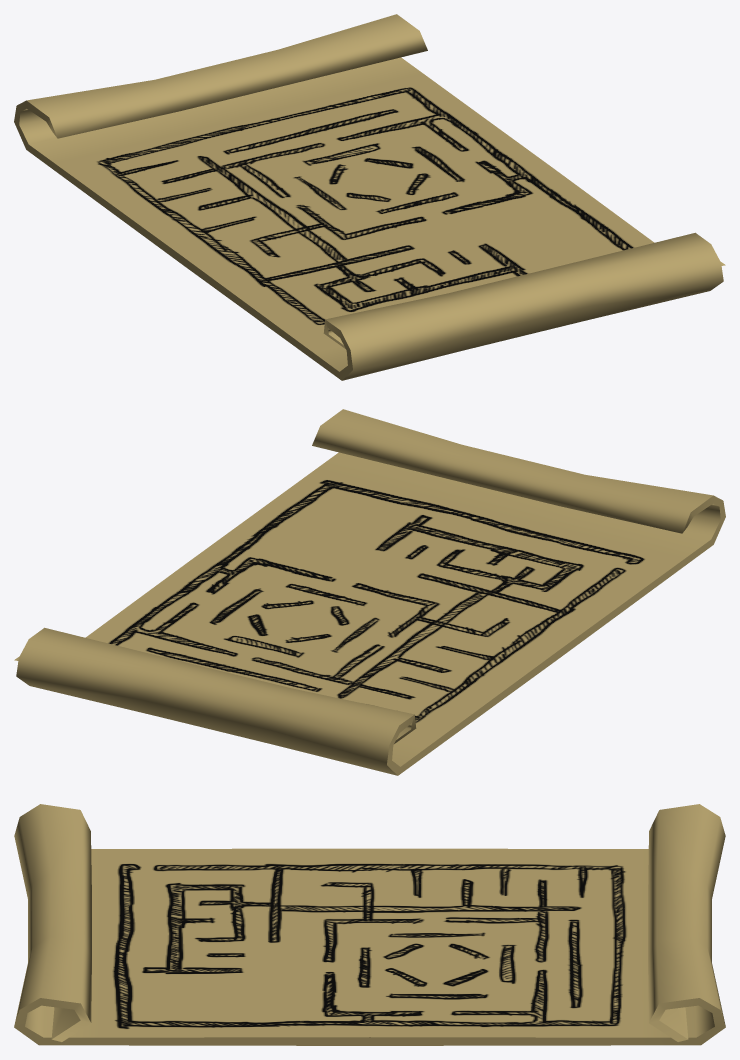
File: Prop_Map_02.fbx
3 views of the same model, one above another, from view 1: azimuth 30°, elevation 25°; view 2: azimuth 150°, elevation 25°; view 3: azimuth 270°, elevation 25° (orthographic). The views are drawn at different scales.
Visible parts, largest first — view 1: Prop_Map_02; view 2: Prop_Map_02; view 3: Prop_Map_02.
Boxes of the visible parts, box(x1,y1,x2,y2) form: Prop_Map_02: box(14, 14, 725, 380); Prop_Map_02: box(14, 409, 725, 775); Prop_Map_02: box(14, 804, 725, 1045).
Size of the model in its own units: 72.37 by 8.96 by 109.
1 material, 1 textured.
